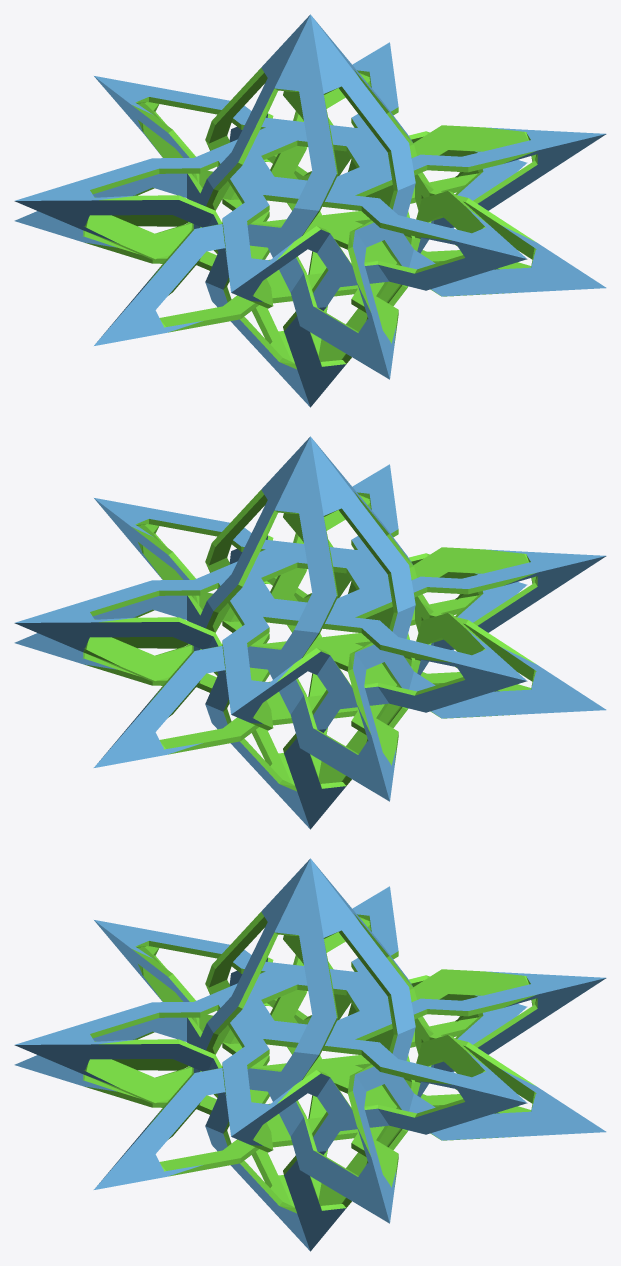
File: AntiprismicPolyknot6.glb
The picture shows the model from 3 angles, top to bottom: view 1: azimuth 30°, elevation 25°; view 2: azimuth 150°, elevation 25°; view 3: azimuth 270°, elevation 25°; orthographic projection.
Visible parts, largest first — view 1: OK_ESCHER_BBBa_AP6; view 2: OK_ESCHER_BBBa_AP6; view 3: OK_ESCHER_BBBa_AP6.
Part boxes in pixels (x1=…): OK_ESCHER_BBBa_AP6: x1=14, y1=14, x2=606, y2=407; OK_ESCHER_BBBa_AP6: x1=14, y1=436, x2=606, y2=829; OK_ESCHER_BBBa_AP6: x1=14, y1=858, x2=606, y2=1251.
Size of the model in its own units: 205 by 150 by 205.
